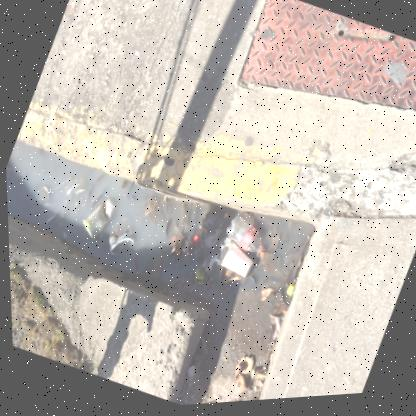Plastic: (193, 213, 232, 278), (224, 219, 264, 256), (80, 199, 115, 241), (219, 246, 250, 280), (106, 218, 131, 256), (46, 177, 69, 194), (34, 187, 48, 205)
Waste: (284, 287, 291, 299), (190, 238, 197, 248)
